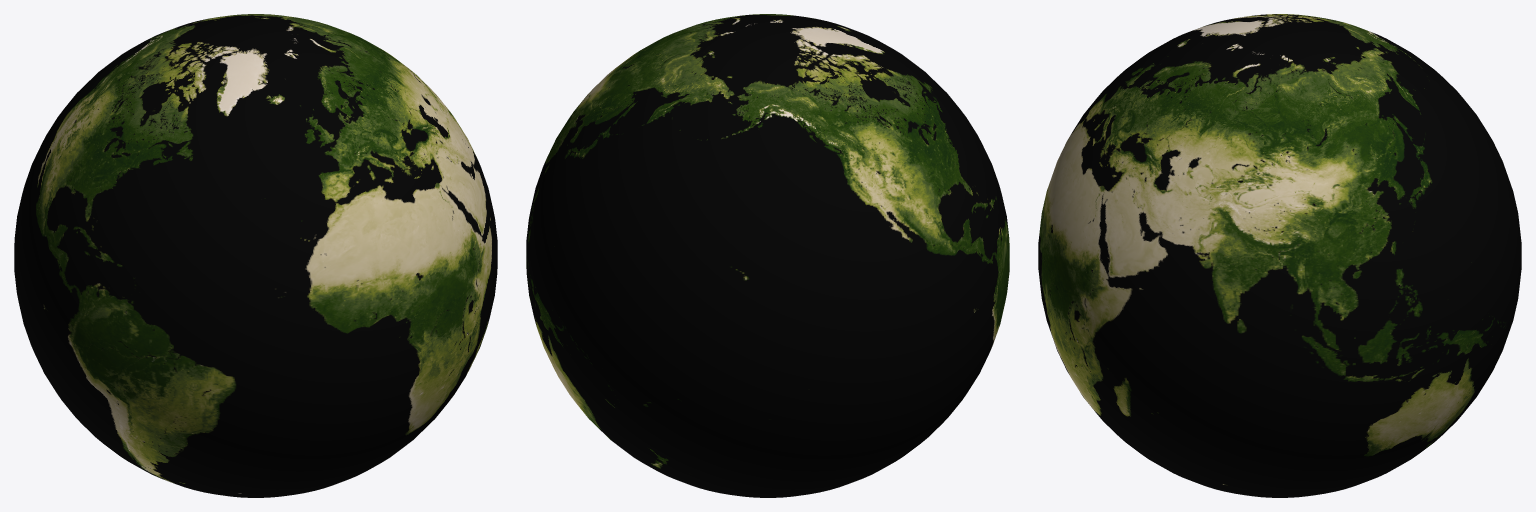
Rendered from planet2.glb.
3 views of the same model, side by side, from view 1: azimuth 30°, elevation 25°; view 2: azimuth 150°, elevation 25°; view 3: azimuth 270°, elevation 25° (orthographic).
Visible parts, largest first — view 1: Object_2; view 2: Object_2; view 3: Object_2.
Part boxes in pixels (x1=…): Object_2: x1=14, y1=14, x2=497, y2=497; Object_2: x1=526, y1=14, x2=1009, y2=497; Object_2: x1=1038, y1=14, x2=1521, y2=497.
Size of the model in its own units: 0.3329 by 0.3333 by 0.3329.
Materials: 1 (1 with a texture image).
